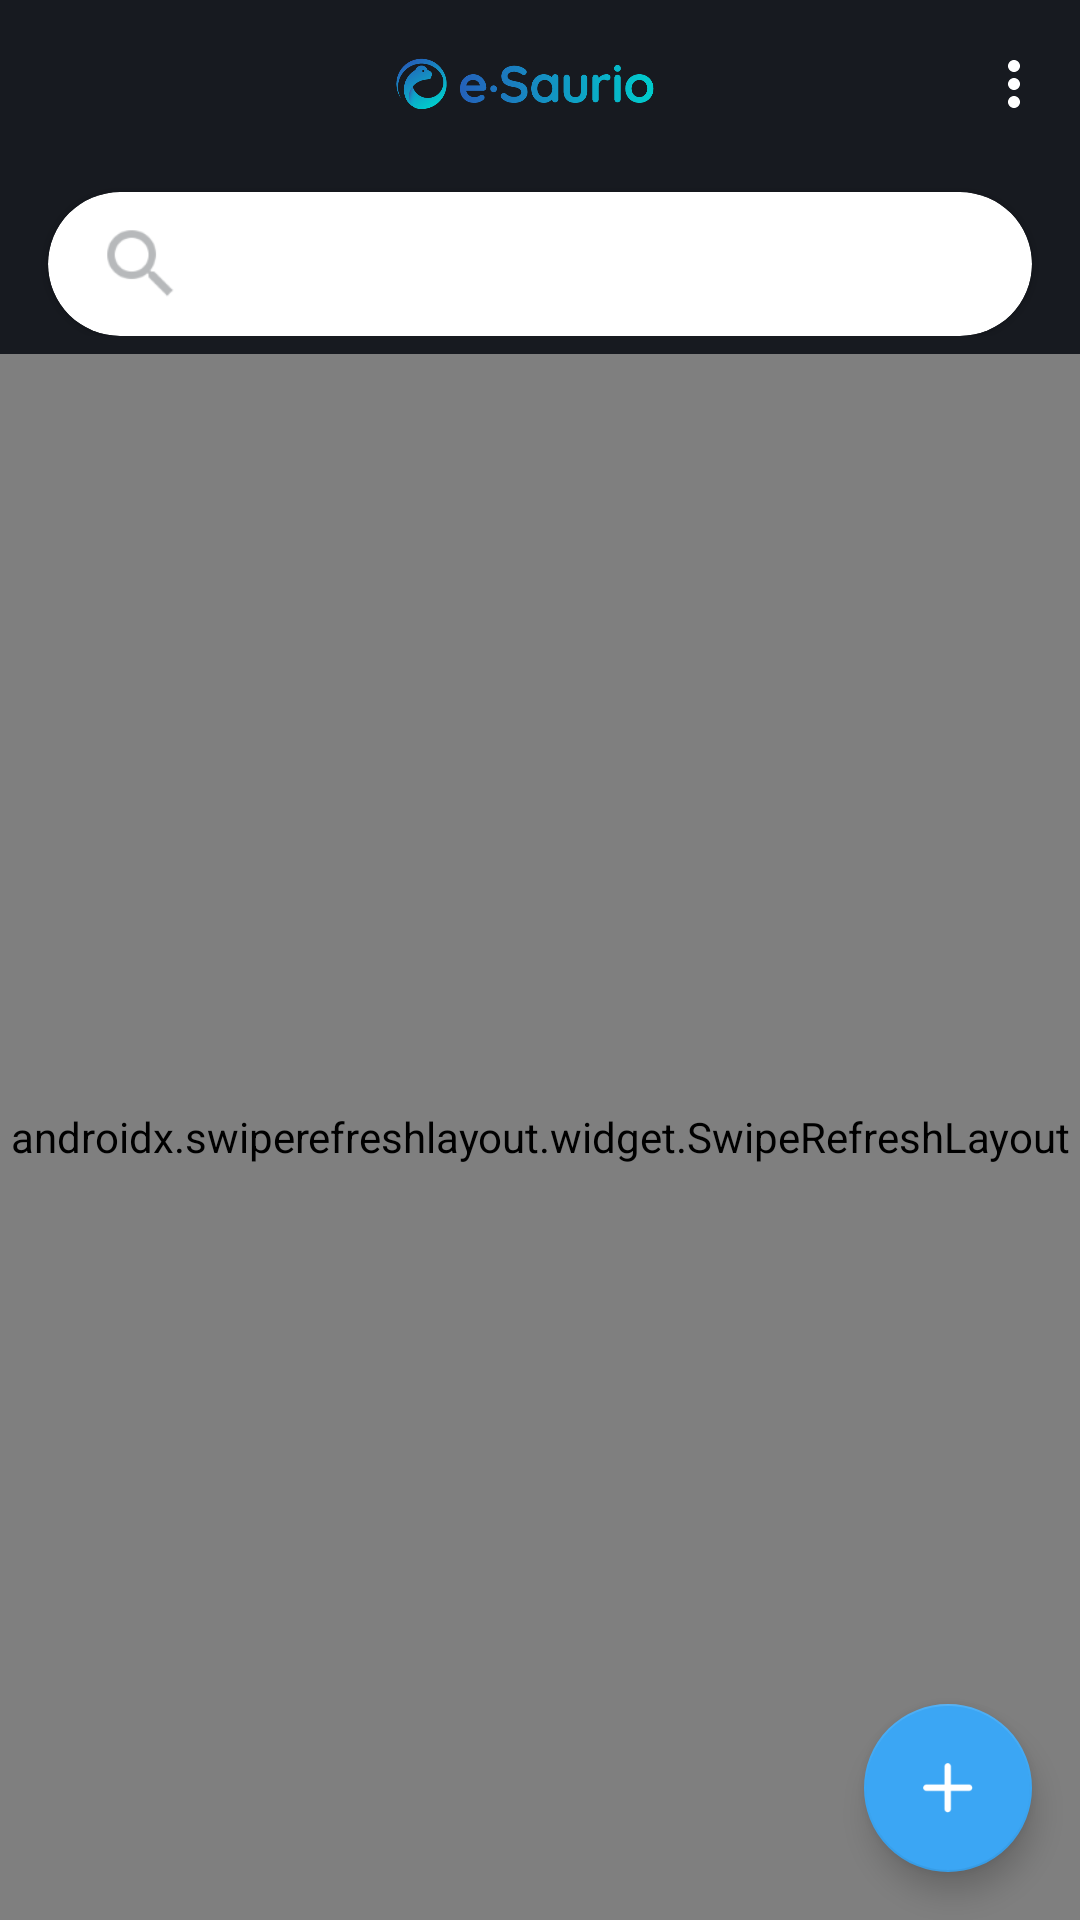

Named icons in this screenshot (1080 × 1920) and their bounding boxes, [x1=x1, y1=y1, x2=x2, y2=y2]:
add: [x1=864, y1=1704, x2=1032, y2=1872]
search: [x1=107, y1=230, x2=173, y2=296]
